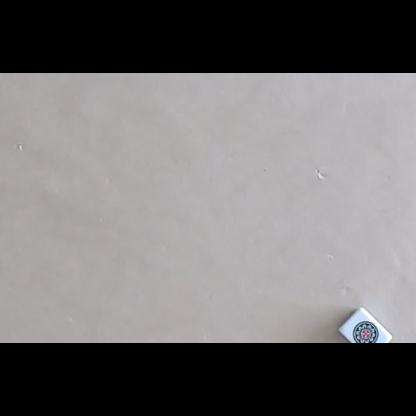1p: (352, 320, 379, 343)
